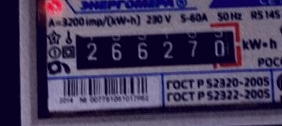0: (211, 36, 226, 57)
2: (84, 39, 98, 61), (161, 38, 175, 59)
6: (109, 39, 122, 61), (135, 39, 149, 59)
7: (187, 37, 198, 57)
screen: (62, 16, 248, 79)
